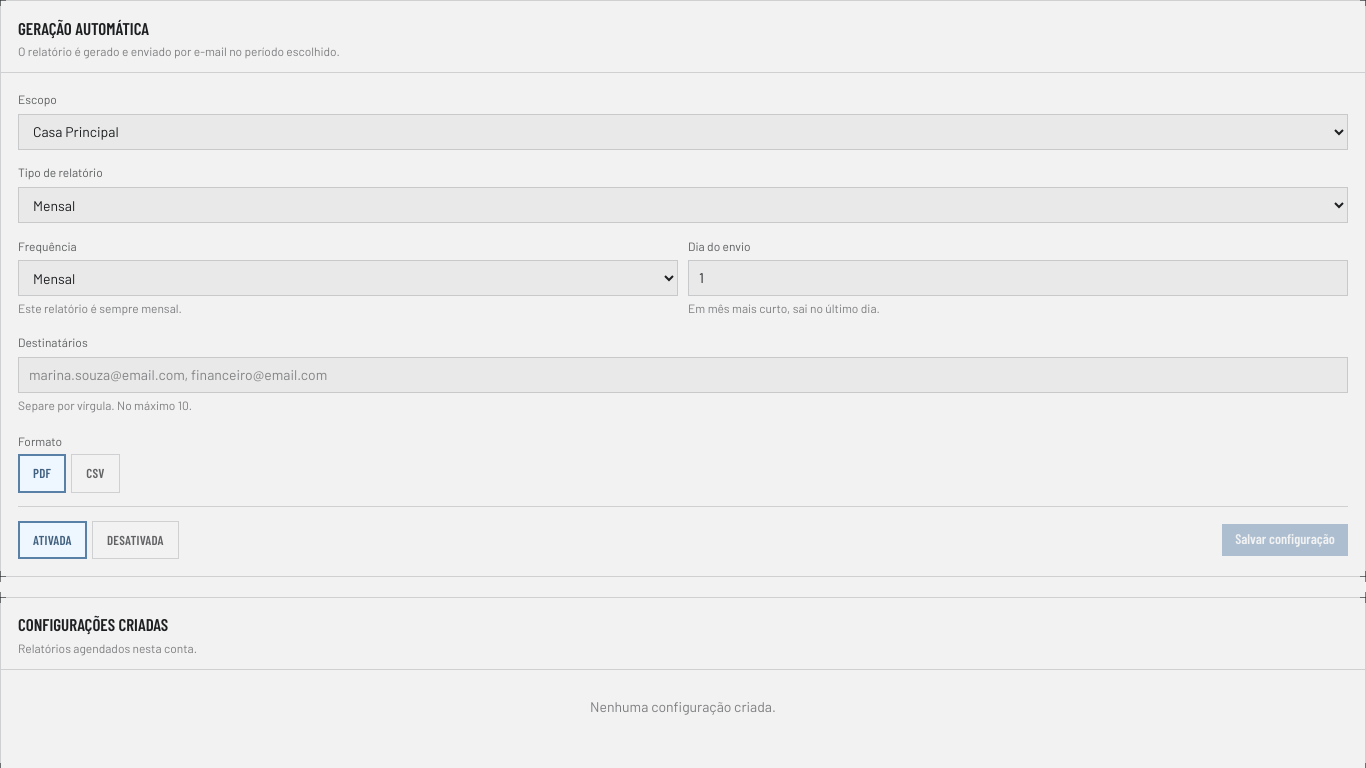
ReportSchedulesPage — tipos de relatório › a demanda só é oferecida para propriedade do Grupo A e trava a frequência mensal
Select "Alertas" in the dropdown labelled "Tipo de relatório". click: (683, 205)
box: [18,187,1348,223]
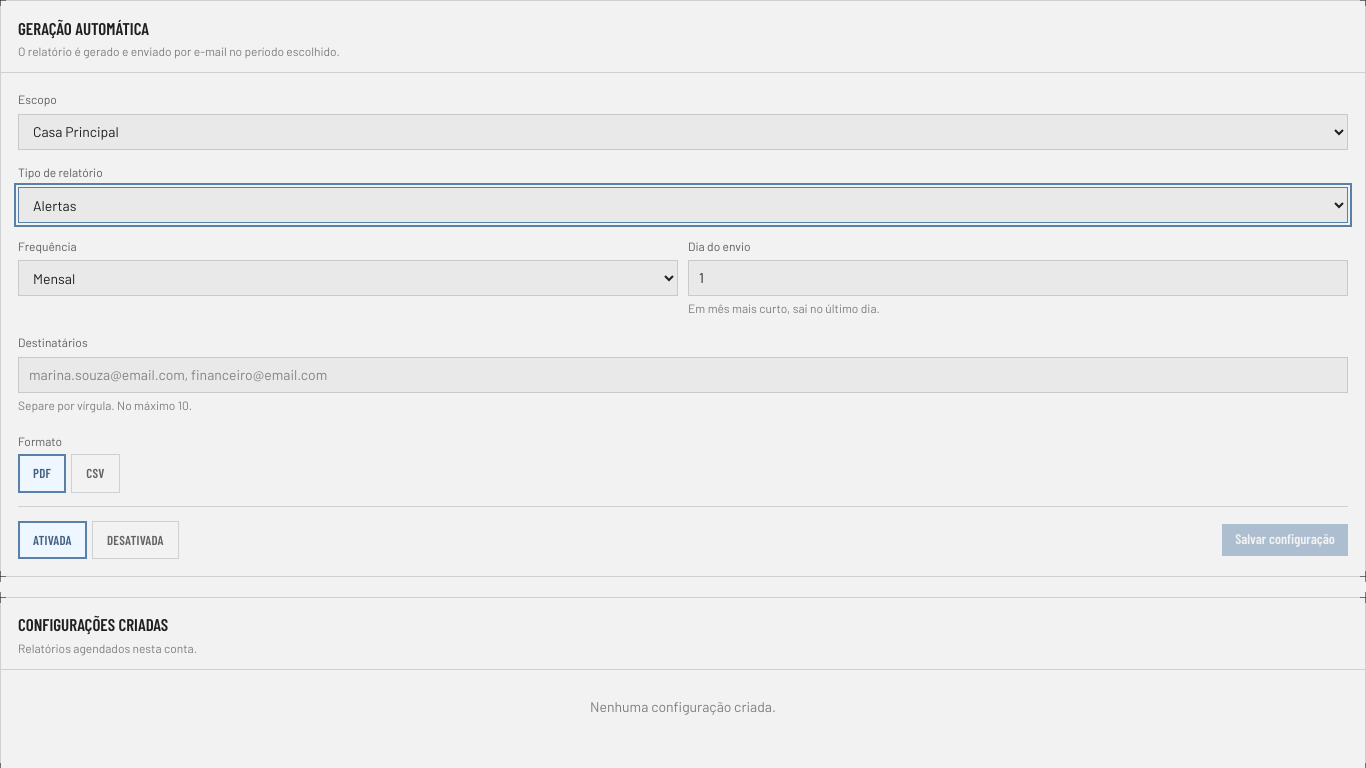
Select "Semanal" in the dropdown labelled "Frequência". click: (348, 278)
box: [18,260,678,296]
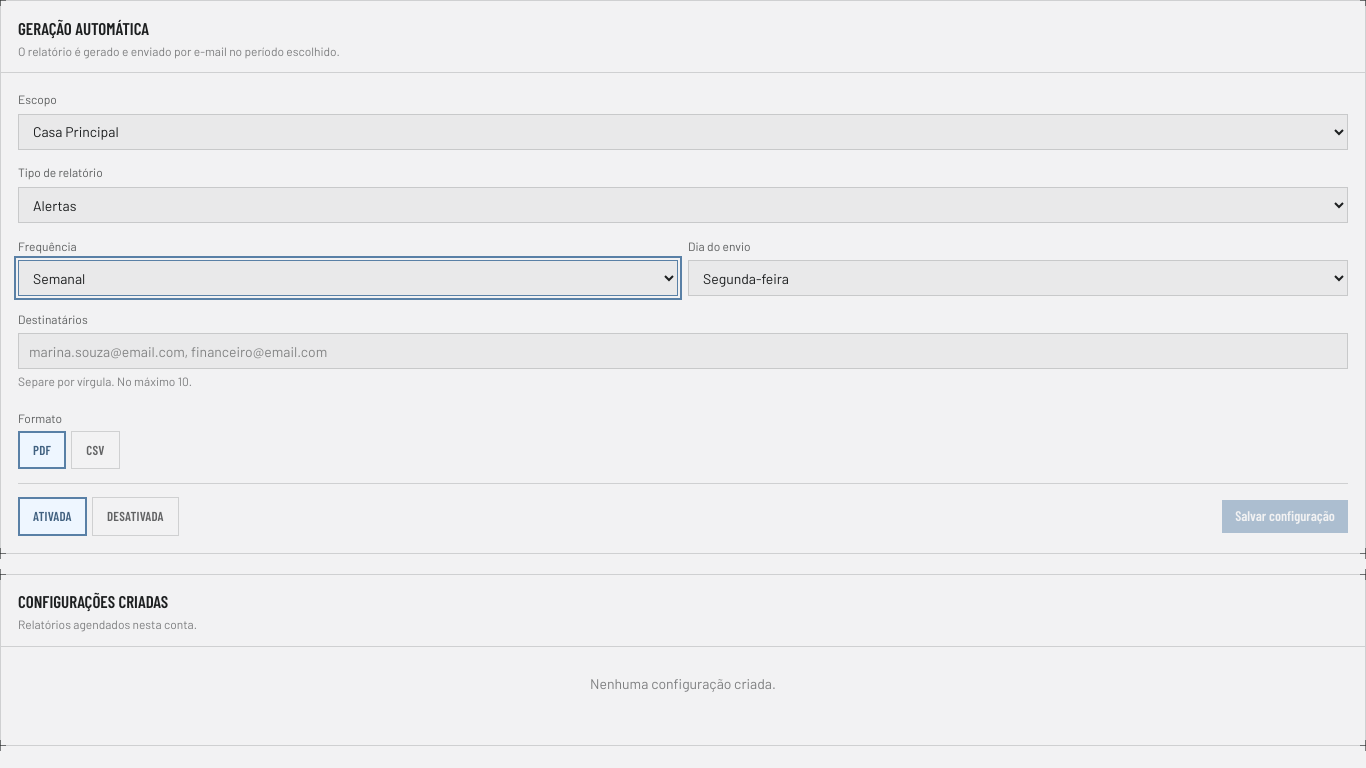
Result: the dropdown labelled "Frequência" is enabled at [18,260,678,296]
Select "Demanda" in the dropdown labelled "Tipo de relatório". click: (683, 205)
box: [18,187,1348,223]
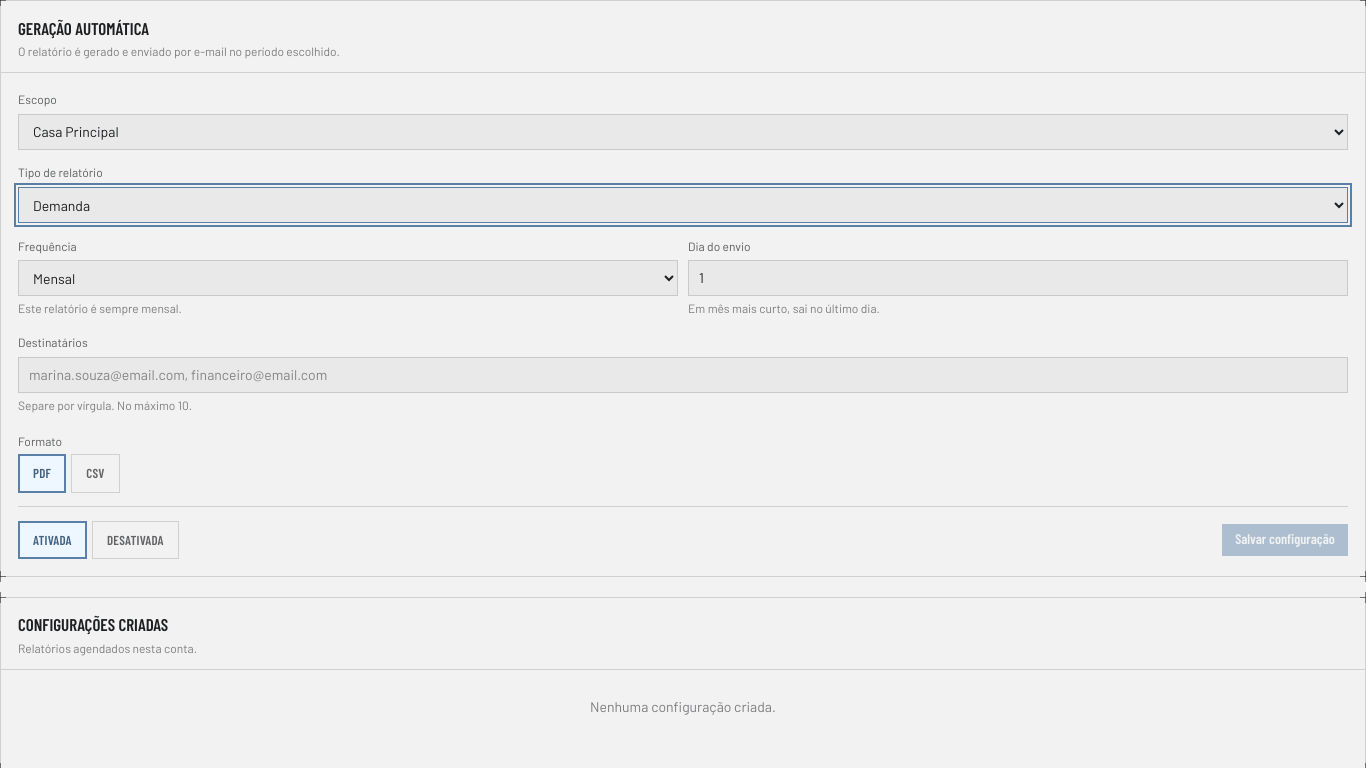
Result: the dropdown labelled "Frequência" is disabled at [18,260,678,296]
